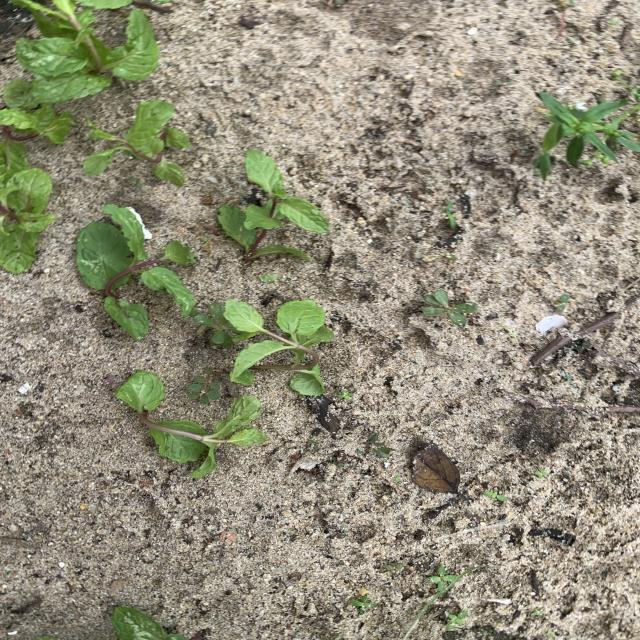crop: (2, 0, 159, 109), (114, 371, 267, 477), (77, 206, 195, 338), (219, 151, 327, 262), (222, 300, 333, 395), (84, 101, 188, 184), (1, 167, 55, 273), (1, 105, 73, 181), (111, 606, 199, 639), (80, 0, 131, 9)
weed: (536, 92, 619, 167), (423, 290, 478, 325), (194, 302, 234, 345), (188, 368, 219, 402), (426, 566, 456, 590), (350, 596, 375, 614), (446, 610, 467, 630), (371, 439, 390, 458), (553, 294, 570, 310), (446, 201, 456, 228), (484, 491, 507, 502), (337, 390, 351, 401), (386, 563, 403, 572), (259, 274, 278, 282), (307, 440, 319, 450), (534, 469, 547, 478), (394, 475, 399, 482)
